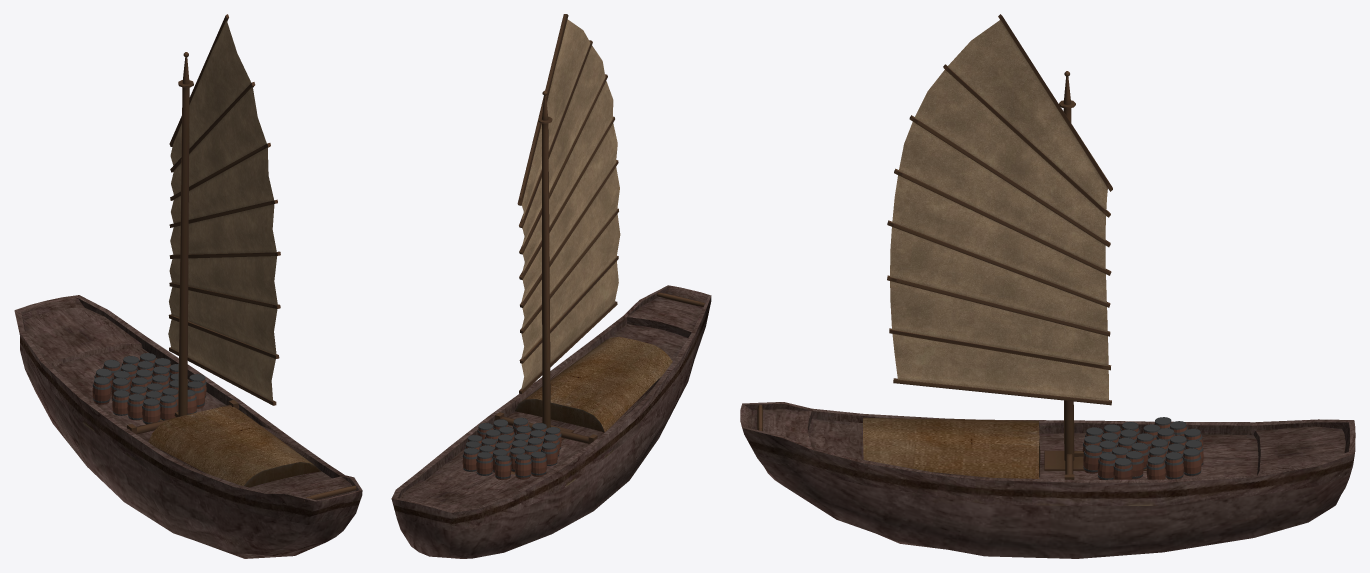
The picture shows the model from 3 angles, left to right: view 1: azimuth 30°, elevation 25°; view 2: azimuth 150°, elevation 25°; view 3: azimuth 270°, elevation 25°; orthographic projection. The views are drawn at different scales.
Parts seen in each view (by area): view 1: boat.001, Cylinder.002; view 2: boat.001, Cylinder.002; view 3: boat.001, Cylinder.002.
Boxes of the visible parts, x1=… form: boat.001: x1=14, y1=14, x2=362, y2=558; Cylinder.002: x1=92, y1=353, x2=206, y2=424; boat.001: x1=391, y1=14, x2=711, y2=558; Cylinder.002: x1=462, y1=417, x2=561, y2=479; boat.001: x1=740, y1=14, x2=1355, y2=558; Cylinder.002: x1=1082, y1=417, x2=1203, y2=479.
Size of the model in its own units: 171 by 688 by 719.
Materials: 2 (2 with a texture image).
